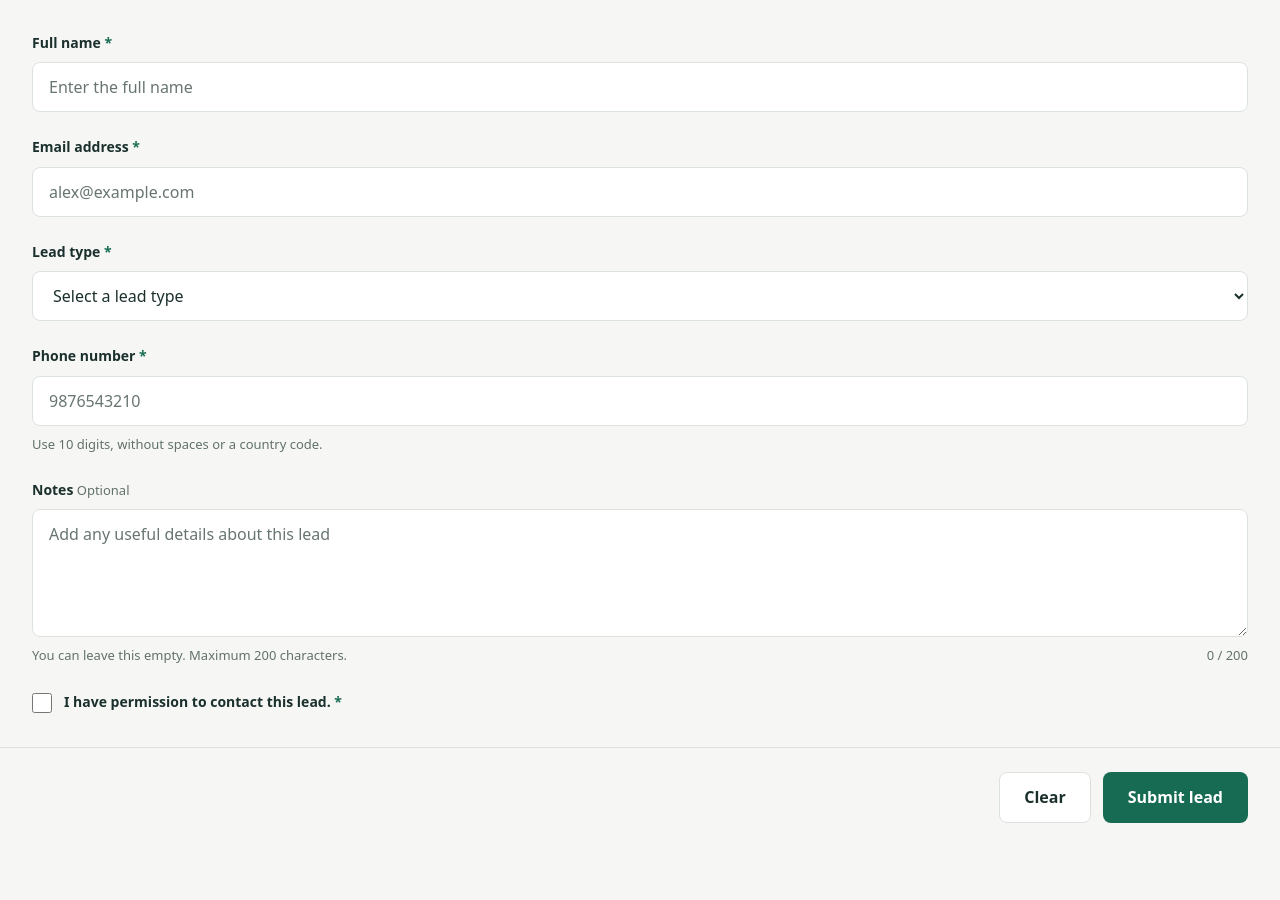
Test: form interactions › waits until blur to reveal an error and clears it as the value is corrected
In the field labelled "Email address *": (640, 192) [32, 167, 1248, 217], type "alex"
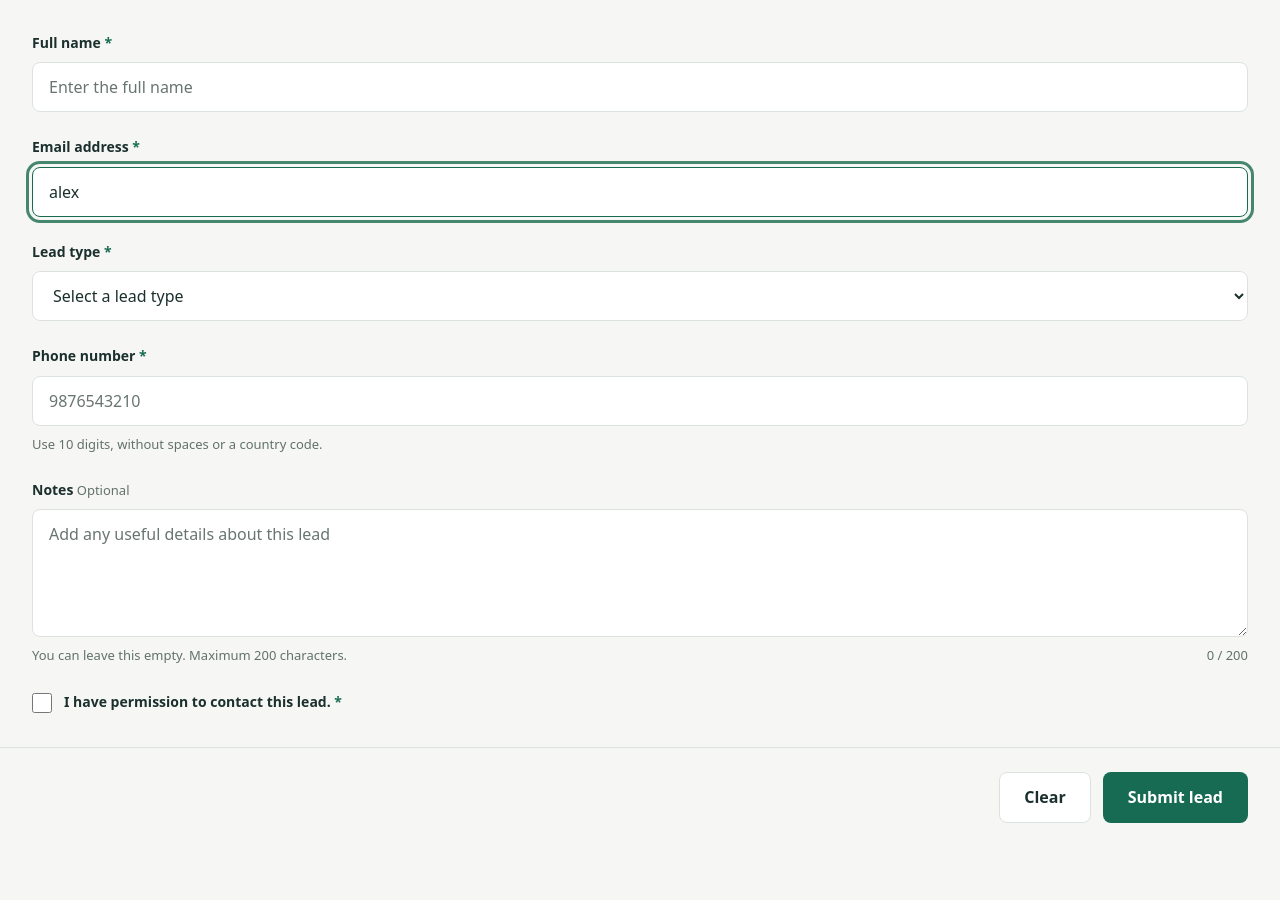
expect the text "Enter a valid email, like alex@example.com." is not shown: met
Press Tab
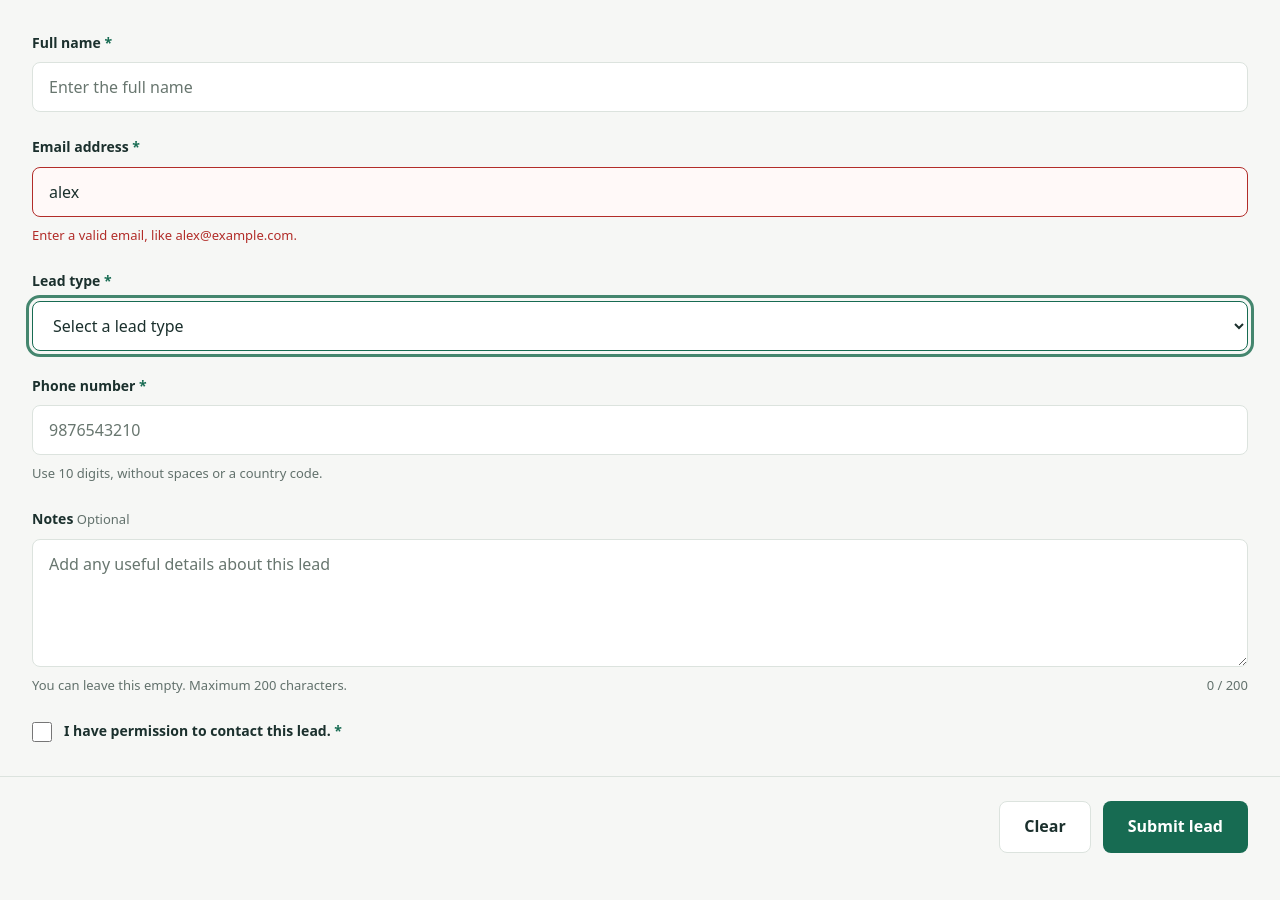
In the field labelled "Email address *": (640, 192) [32, 167, 1248, 217], type "@example.com"
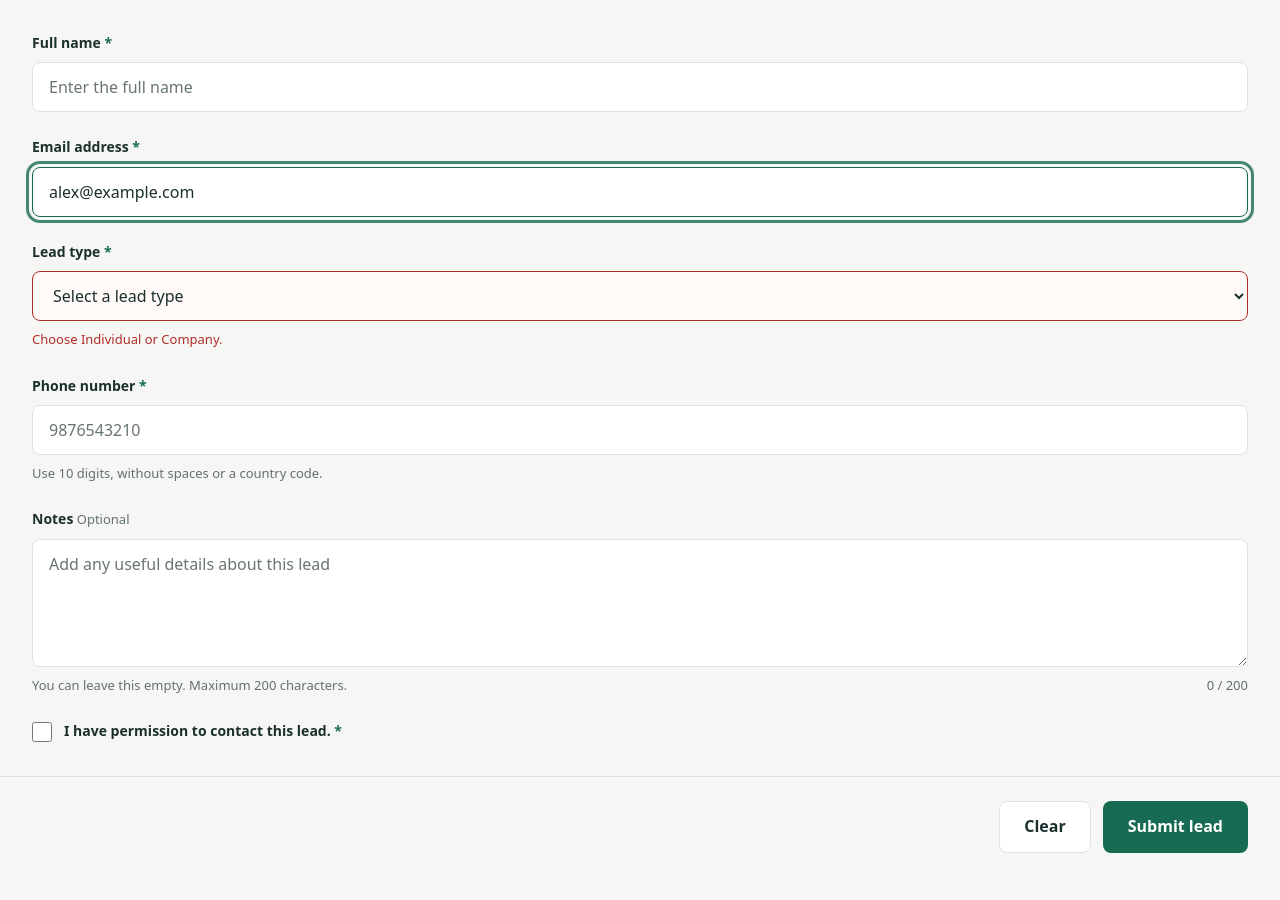
expect the text "Enter a valid email, like alex@example.com." is gone: met
